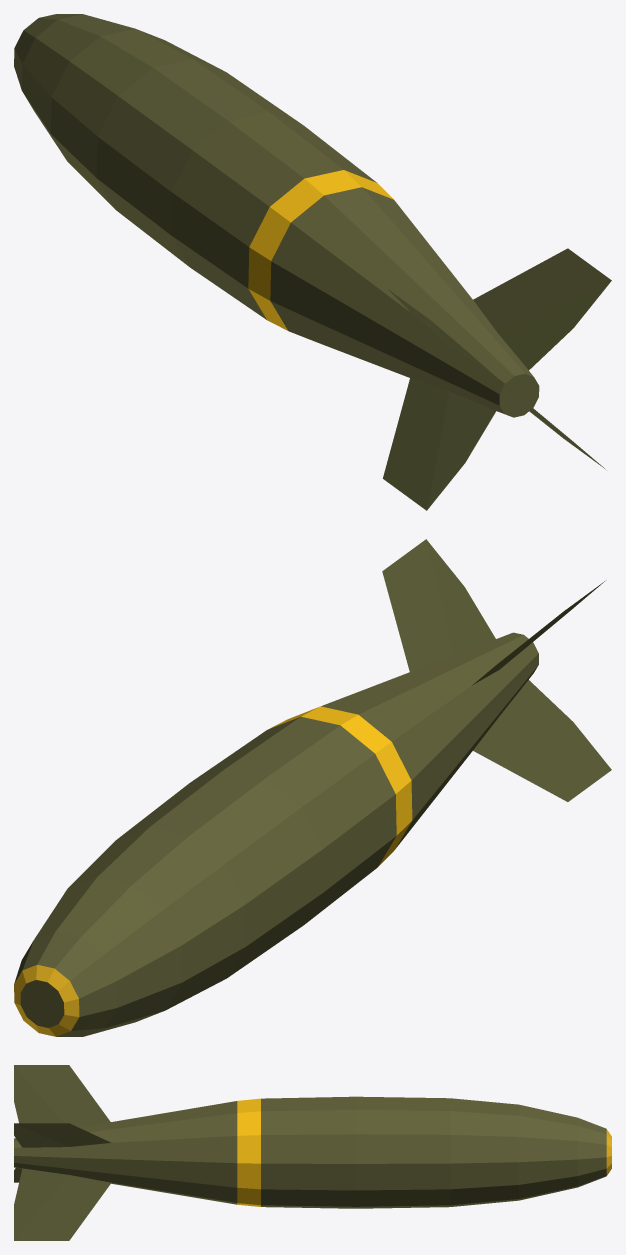
The model's file is model_weapon_missle02.fbx.
3 views of the same model, one above another, from view 1: azimuth 30°, elevation 25°; view 2: azimuth 150°, elevation 25°; view 3: azimuth 270°, elevation 25° (orthographic). The views are drawn at different scales.
Parts seen in each view (by area): view 1: model_weapon_missle02; view 2: model_weapon_missle02; view 3: model_weapon_missle02.
Part boxes in pixels (x1=…): model_weapon_missle02: x1=14, y1=14, x2=611, y2=510; model_weapon_missle02: x1=14, y1=539, x2=611, y2=1036; model_weapon_missle02: x1=14, y1=1065, x2=611, y2=1240.
Bounding box in the file's own units: 55.98 × 55.97 × 249.
